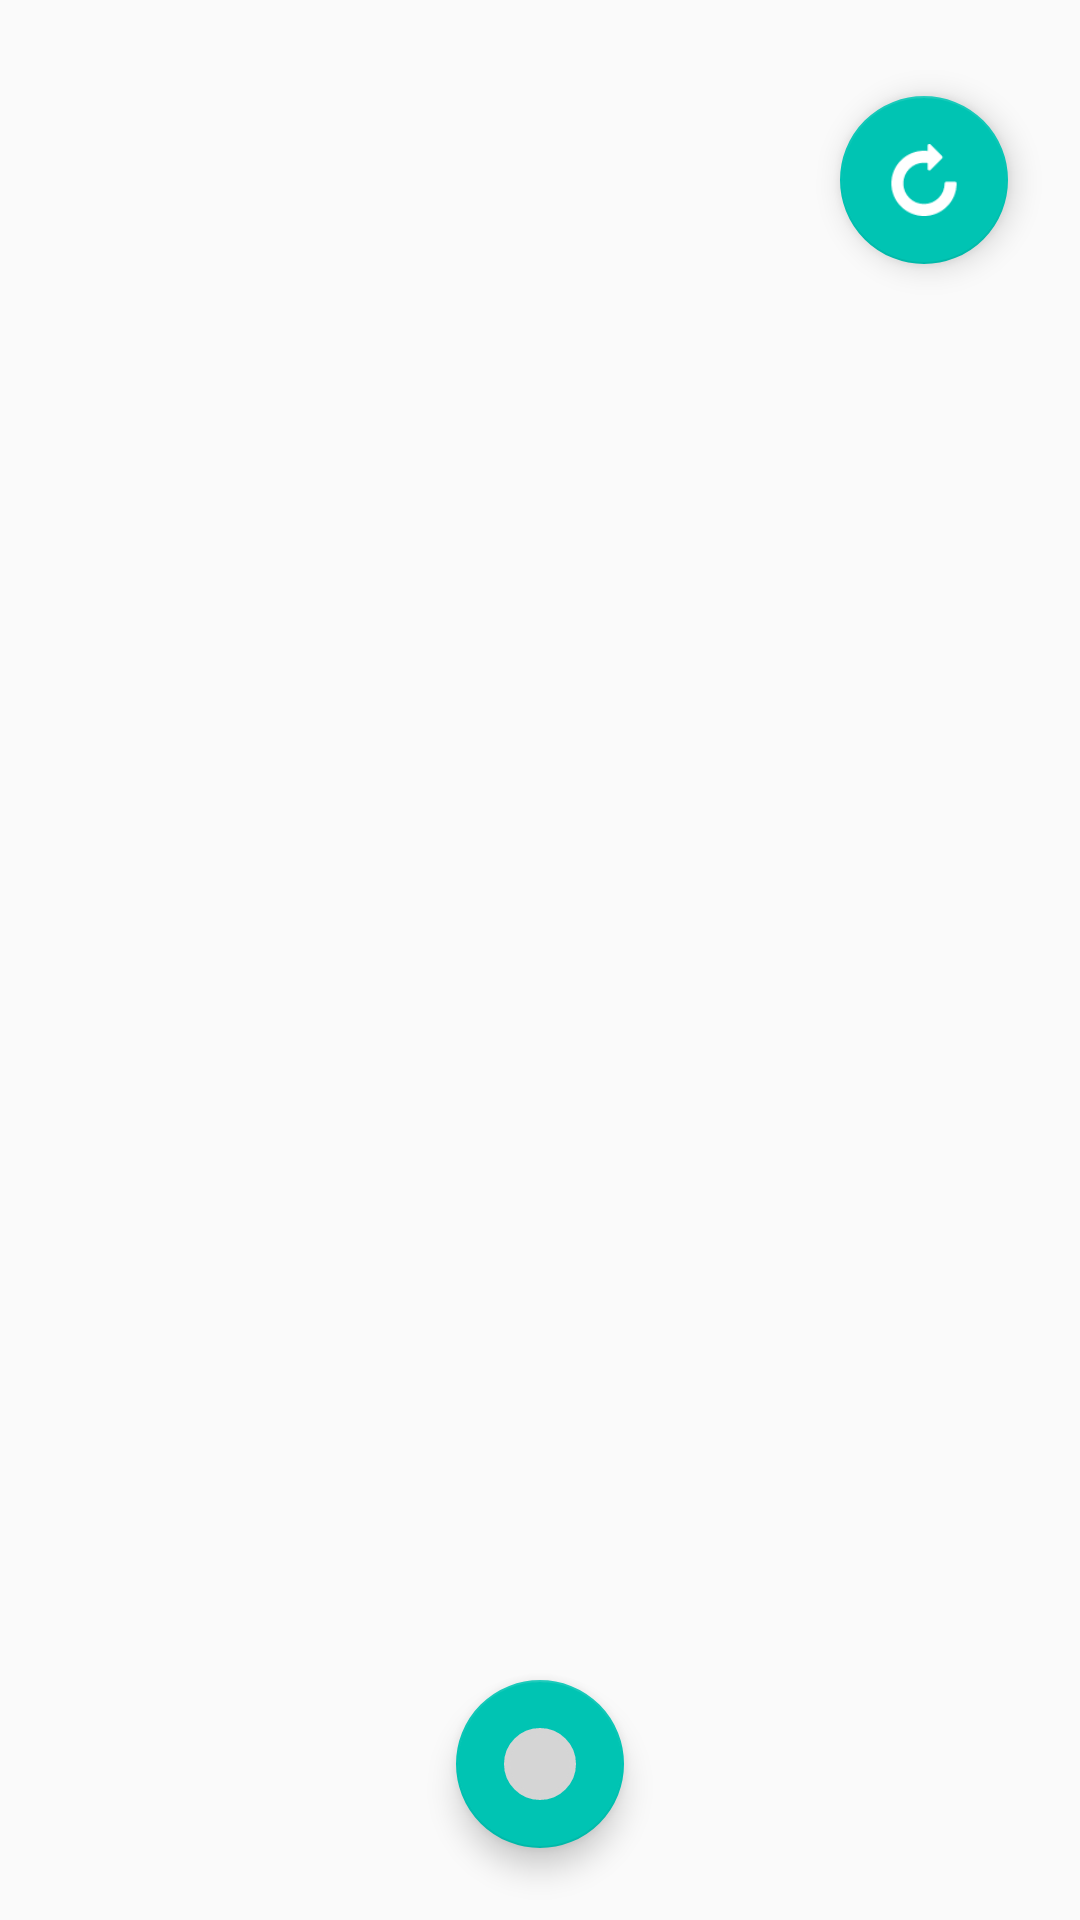

Icon click points for this 1080×1920 phone screenshot, format (x=x, y=y):
camera shutter: (x=540, y=1764)
rotate camera: (x=924, y=180)
